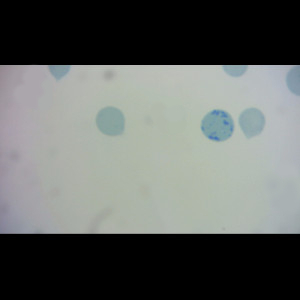aggregate reticulocyte: (200, 109, 235, 142)
erythrocyte: (94, 106, 126, 137), (237, 107, 266, 139)
